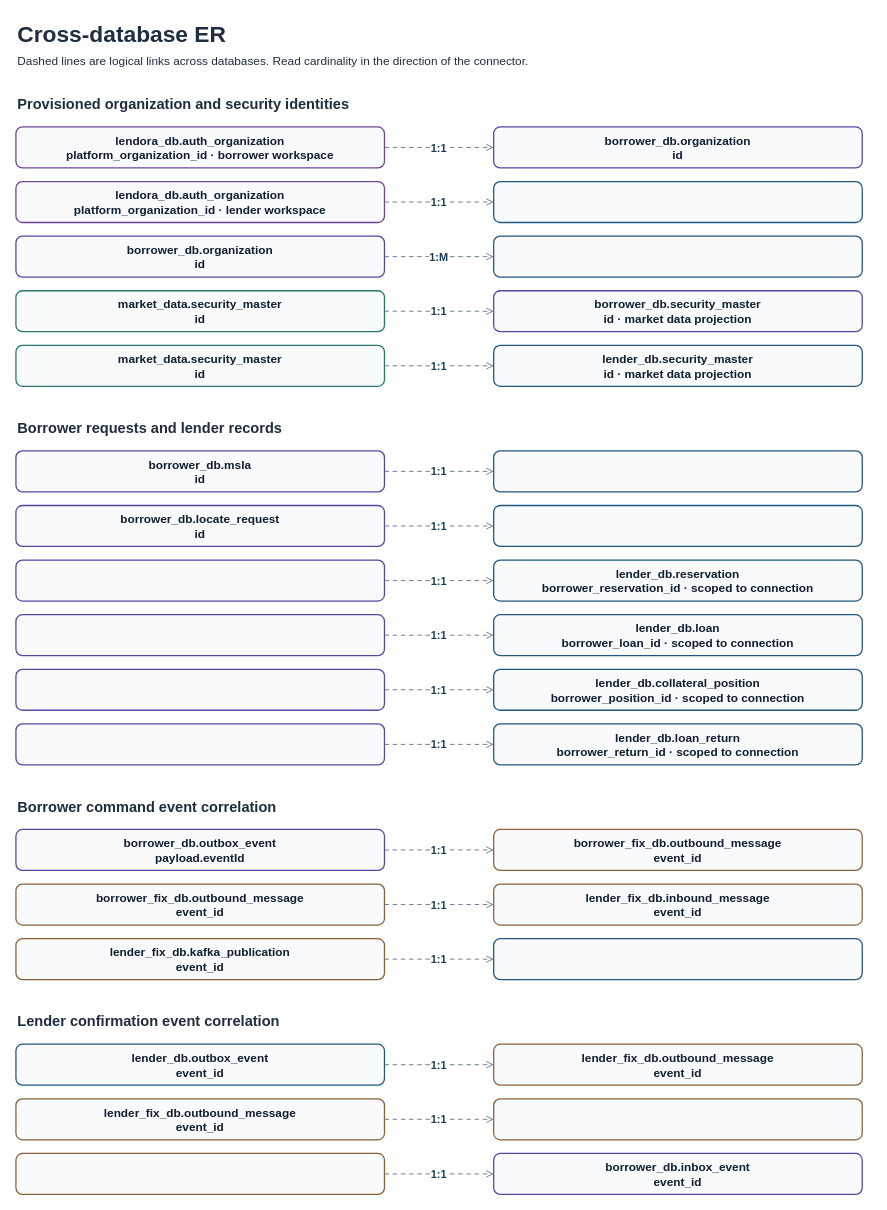
The diagram is 887 pixels wide and 1210 high, and some of its shapes have lost their labels. Each missing label, with the centre of its shape:
borrower_db.collateral_position id: point 200,689
borrower_db.loan id: point 200,635
borrower_db.loan_return id: point 200,744
borrower_db.reservation id: point 200,580
borrower_fix_db.inbound_message event_id: point 677,1119
borrower_fix_db.kafka_publication event_id: point 200,1173
lender_db.borrower_connection borrower_organization_id: point 677,256
lender_db.inbox_event event_id: point 677,959
lender_db.locate_request borrower_locate_id · scoped to connection: point 677,525
lender_db.msla borrower_msla_id · scoped to connection: point 677,471
lender_db.organization id: point 677,201
